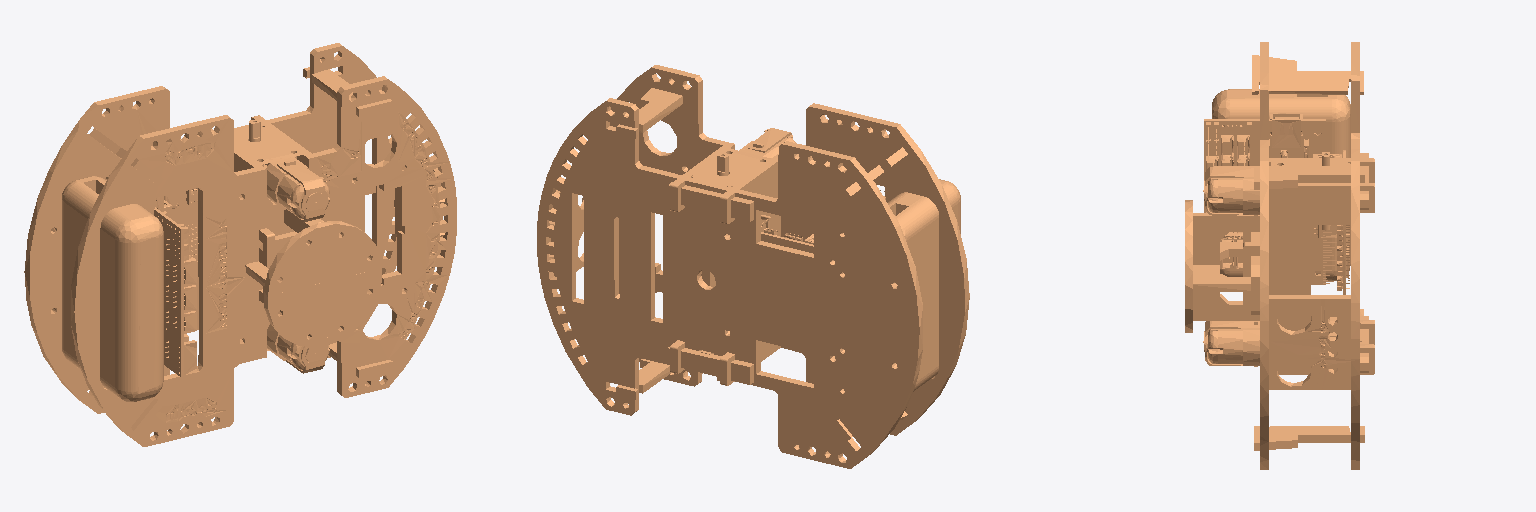
The model's file is mirte_base.obj.
3 renders of one model, left to right at view 1: azimuth 30°, elevation 25°; view 2: azimuth 150°, elevation 25°; view 3: azimuth 270°, elevation 25°, orthographic.
Parts seen in each view (by area): view 1: mirte_base; view 2: mirte_base; view 3: mirte_base.
Boxes of the visible parts, <box> form: mirte_base: <box>24,43,456,446</box>; mirte_base: <box>537,65,969,468</box>; mirte_base: <box>1185,42,1374,469</box>.
Size of the model in its own units: 200 by 154 by 86.3.